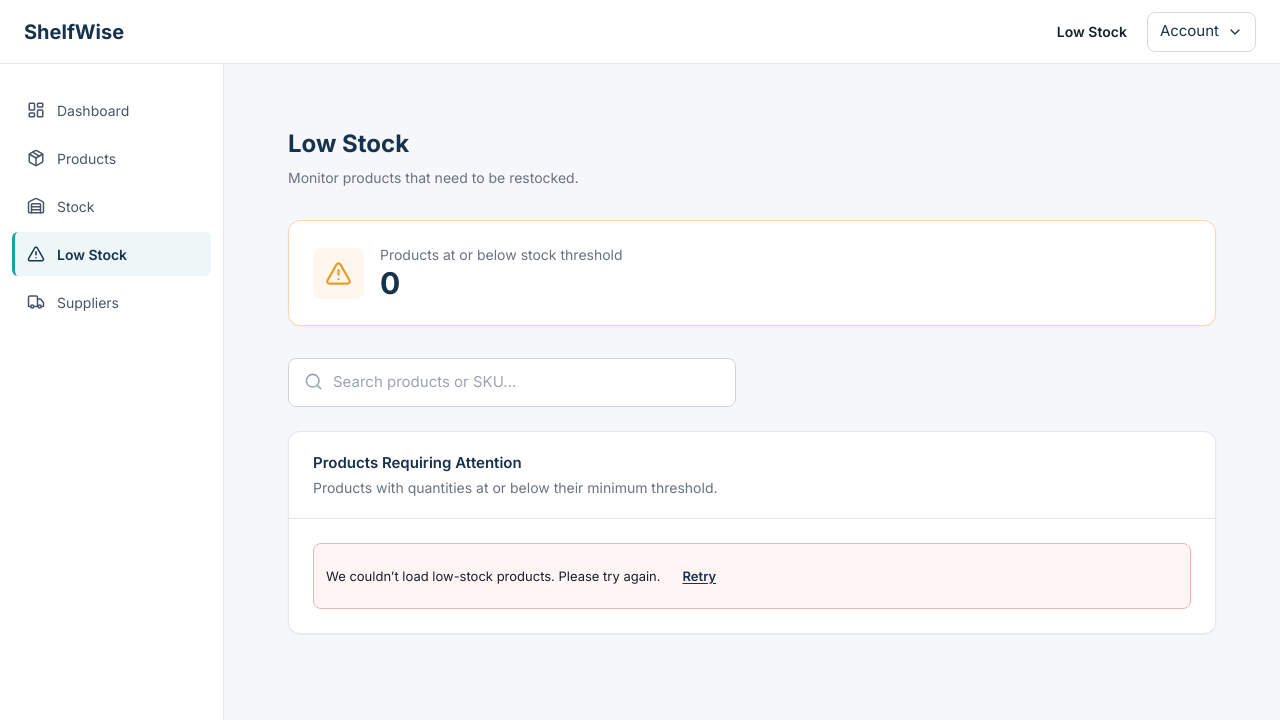
Test: LowStock page › shows the exact load error and retries the query
Expected: the message shows "We couldn’t load low-stock products. Please try again.", x1=326 y1=568 x2=660 y2=584
Click the button "Retry": (699, 576) x1=678 y1=554 x2=720 y2=598
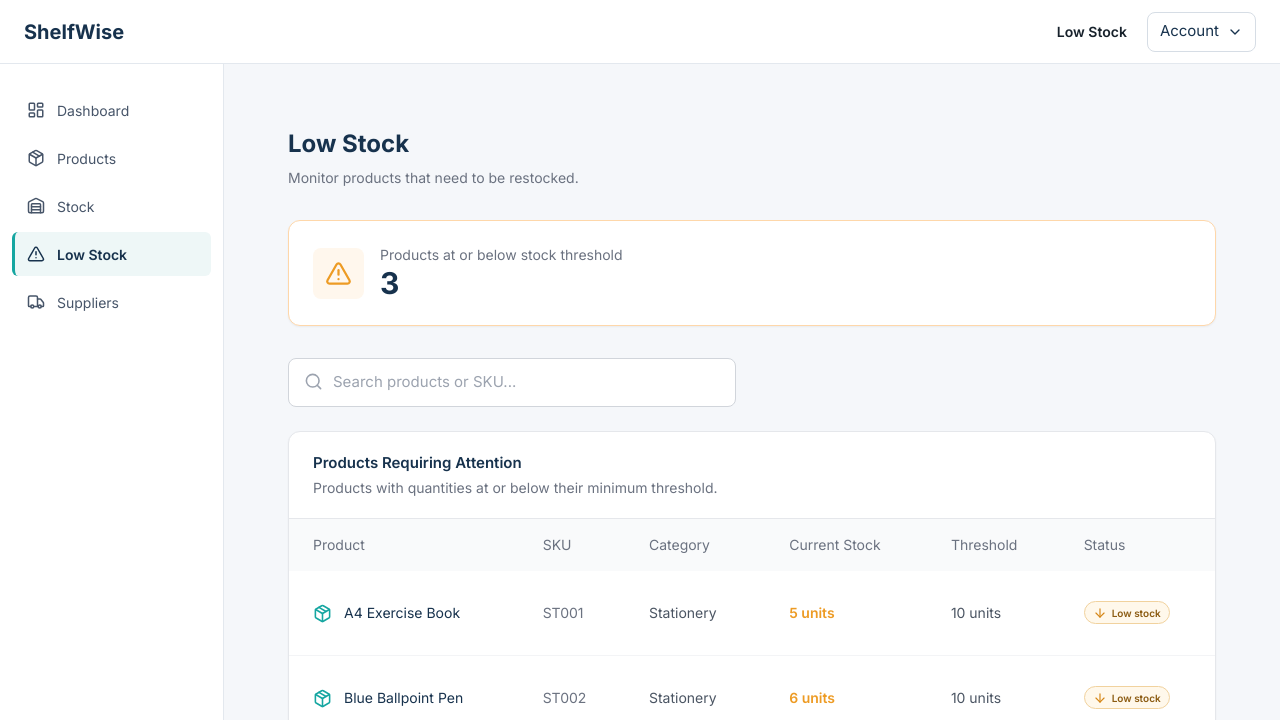
Expected: the link "A4 Exercise Book" is shown, x1=313 y1=604 x2=460 y2=622
